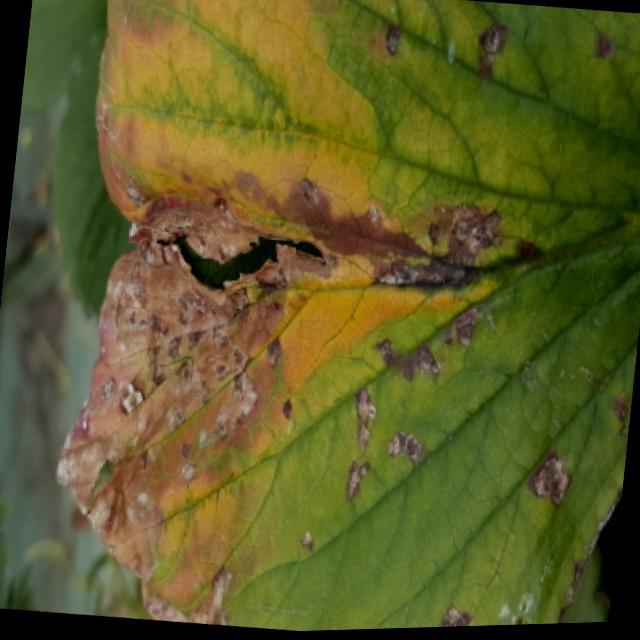Angular Leafspot: (53, 0, 640, 633)
